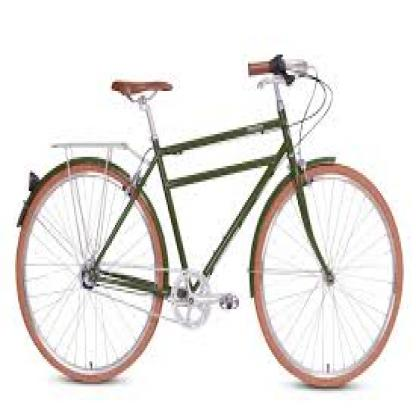Bike: (16, 52, 406, 388)
